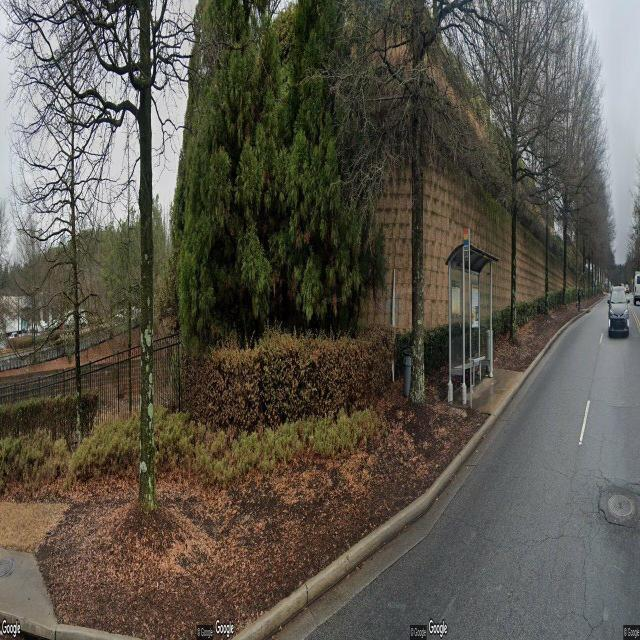seating: (468, 355, 486, 388)
shelter: (446, 247, 498, 401)
trash_can: (404, 348, 414, 401), (486, 330, 494, 372)
